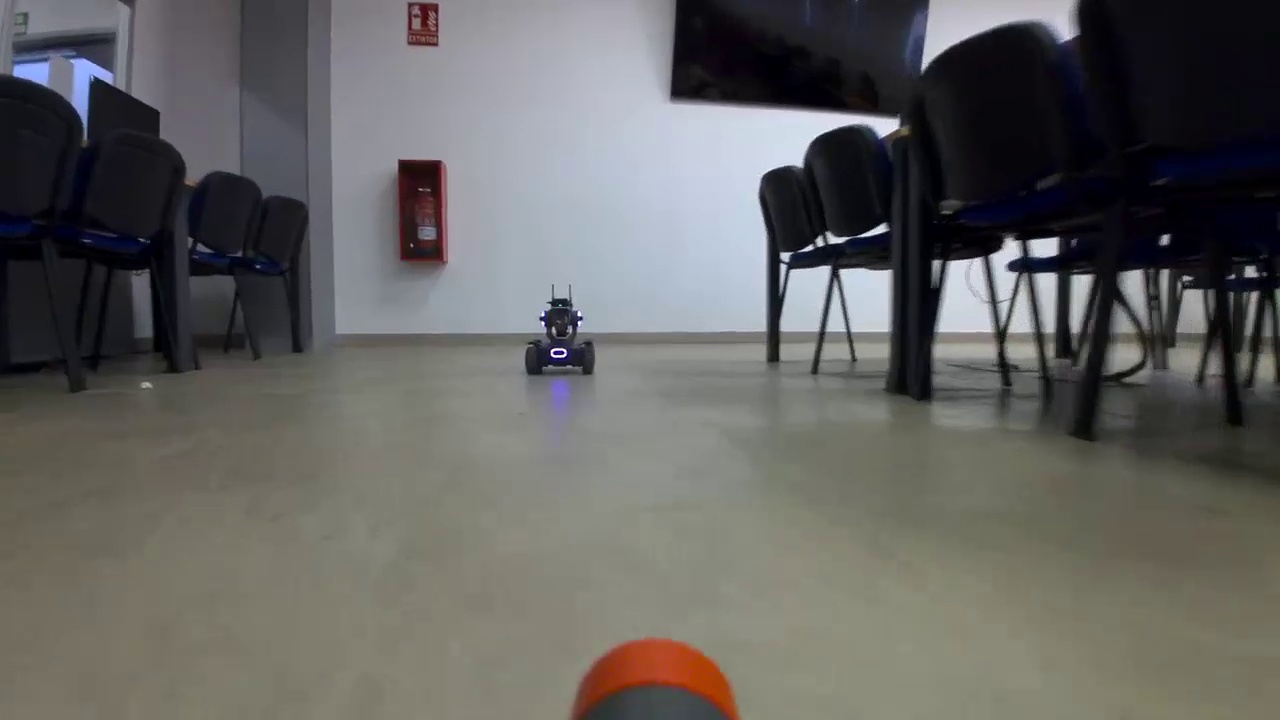robot: (525, 292, 602, 395)
